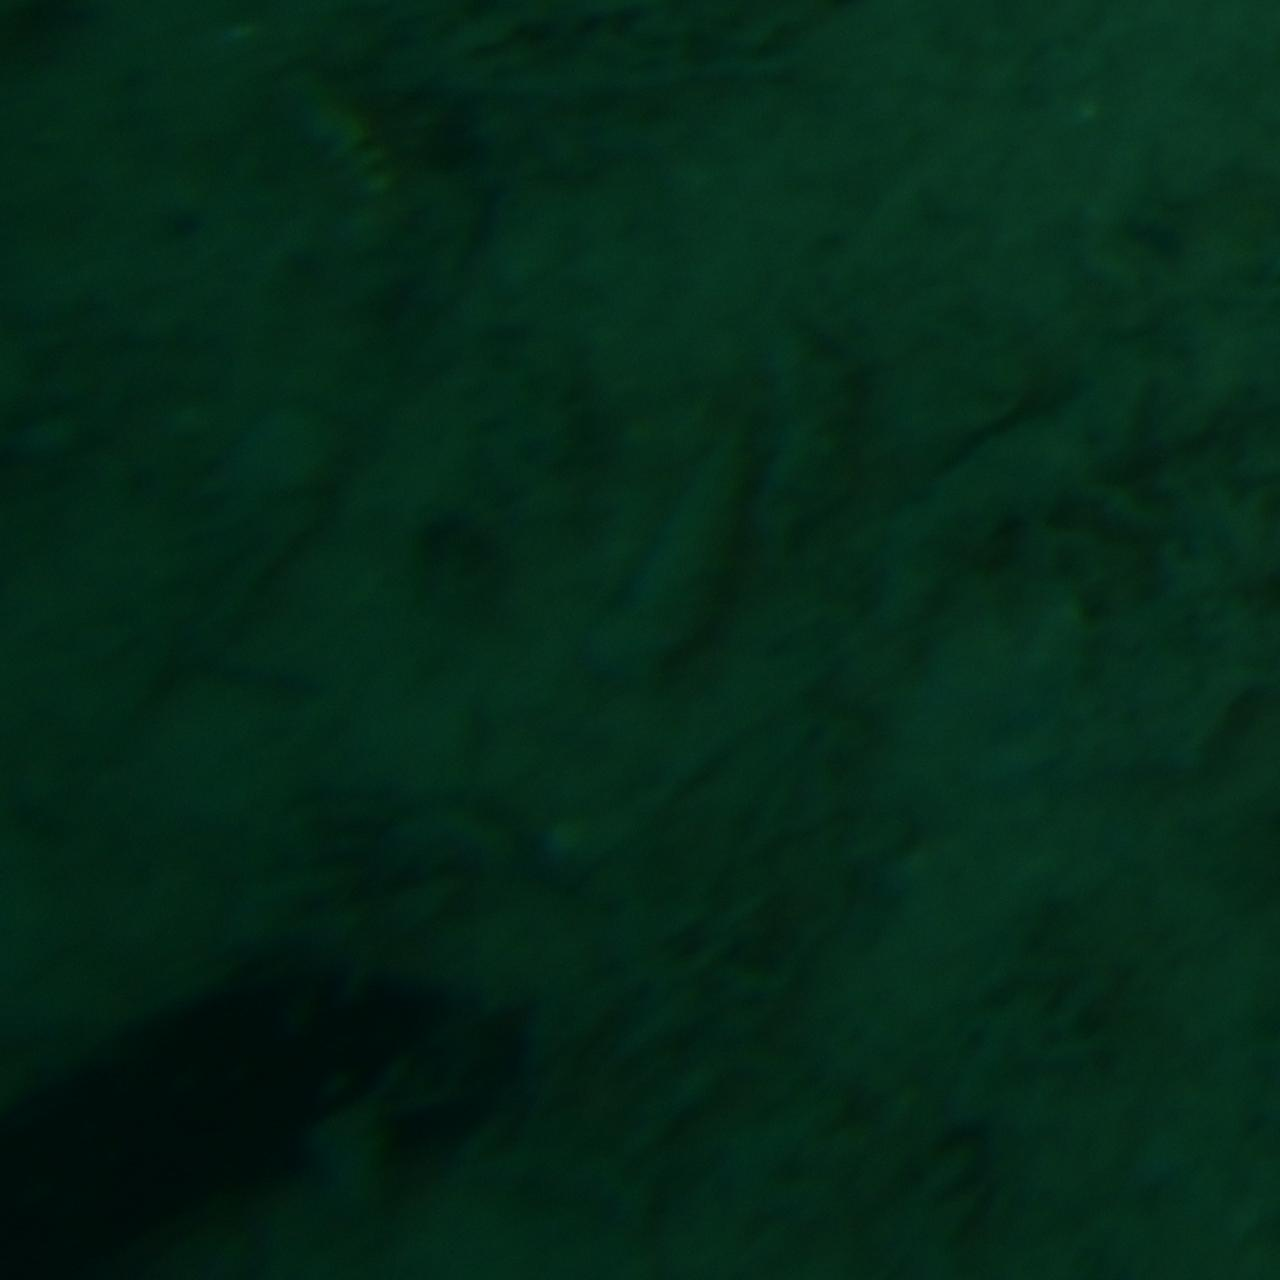Holothuria tubulosa: (0, 915, 501, 1279)
